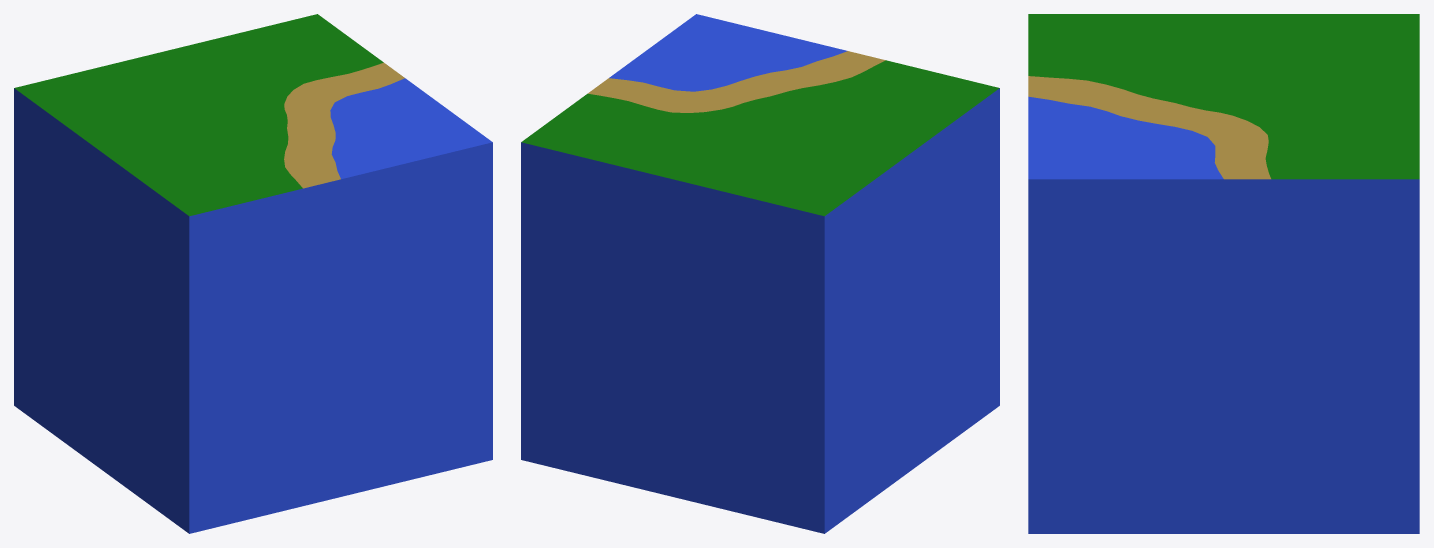
File: CoastWedge2.fbx
3 views of the same model, side by side, from view 1: azimuth 30°, elevation 25°; view 2: azimuth 150°, elevation 25°; view 3: azimuth 270°, elevation 25° (orthographic). The views are drawn at different scales.
Parts seen in each view (by area): view 1: Cube.007; view 2: Cube.007; view 3: Cube.007.
Part boxes in pixels (bbox=[...]): Cube.007: bbox=[14, 14, 492, 533]; Cube.007: bbox=[521, 14, 999, 533]; Cube.007: bbox=[1028, 14, 1419, 533].
Bounding box in the file's own units: 100 × 100 × 100.
